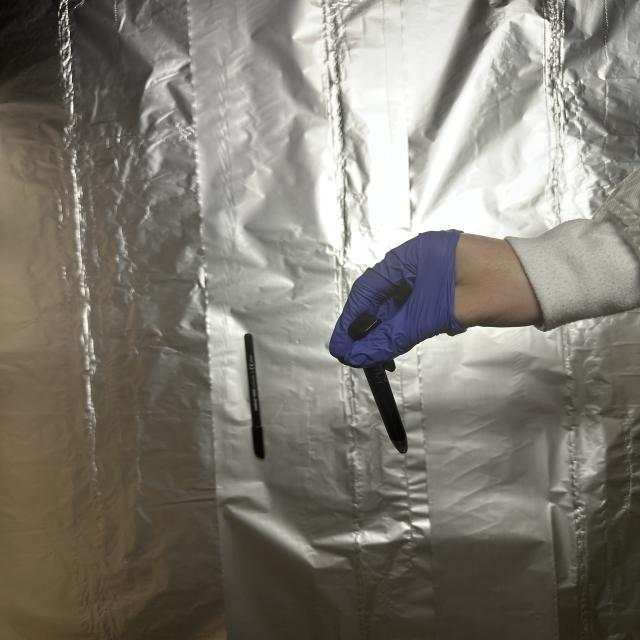glove_partial: (324, 224, 552, 374)
